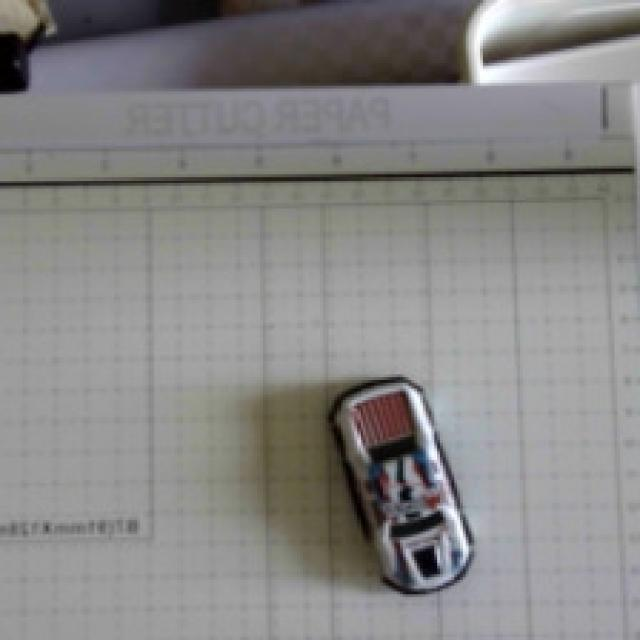Grey Car: (295, 324, 510, 618)
